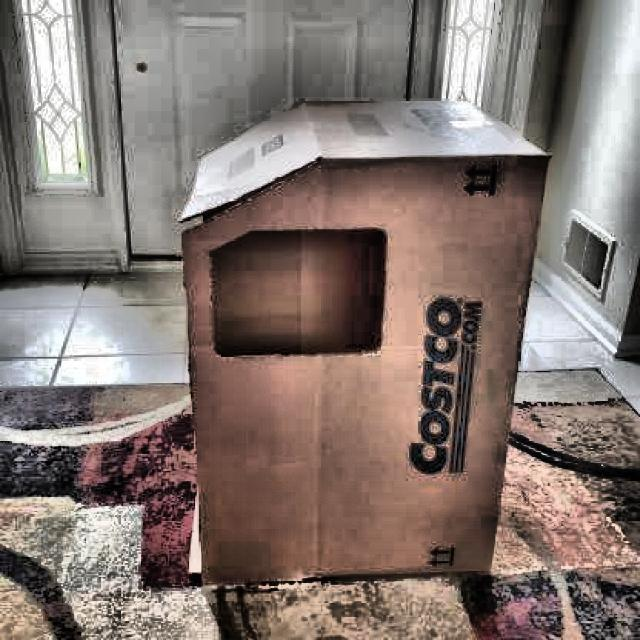Cardbox: (162, 87, 562, 599)
